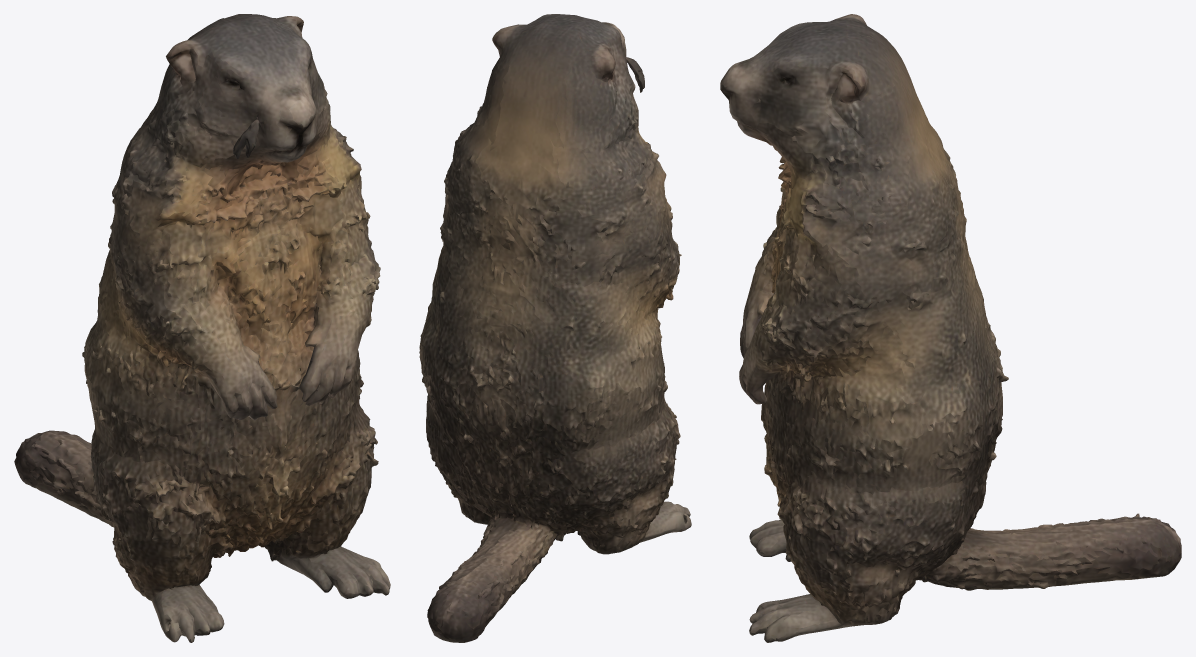
File: alpine-marmot-v20.glb
The picture shows the model from 3 angles, left to right: view 1: azimuth 30°, elevation 25°; view 2: azimuth 150°, elevation 25°; view 3: azimuth 270°, elevation 25°; orthographic projection. The views are drawn at different scales.
Visible parts, largest first — view 1: geometry_0; view 2: geometry_0; view 3: geometry_0.
Boxes of the visible parts, bbox=[...] form: geometry_0: bbox=[14, 14, 390, 642]; geometry_0: bbox=[419, 14, 691, 642]; geometry_0: bbox=[720, 14, 1181, 642].
Size of the model in its own units: 0.286 by 0.5996 by 0.4463.
Materials: 1 (1 with a texture image).
